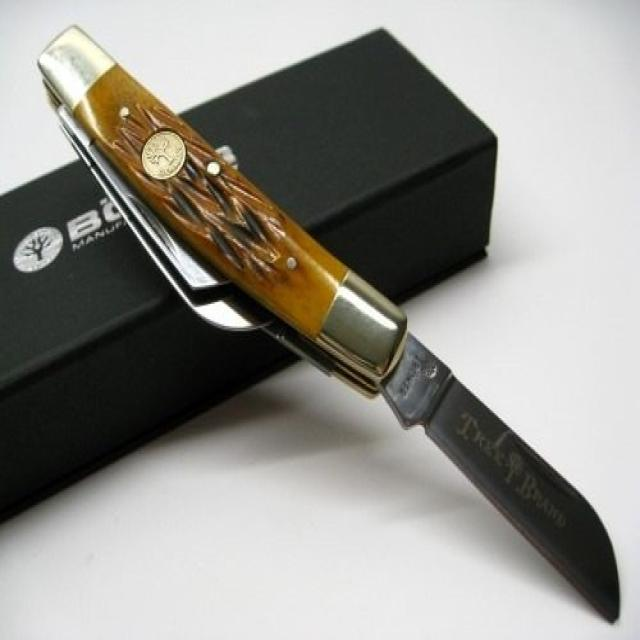knife: (34, 24, 629, 631)
